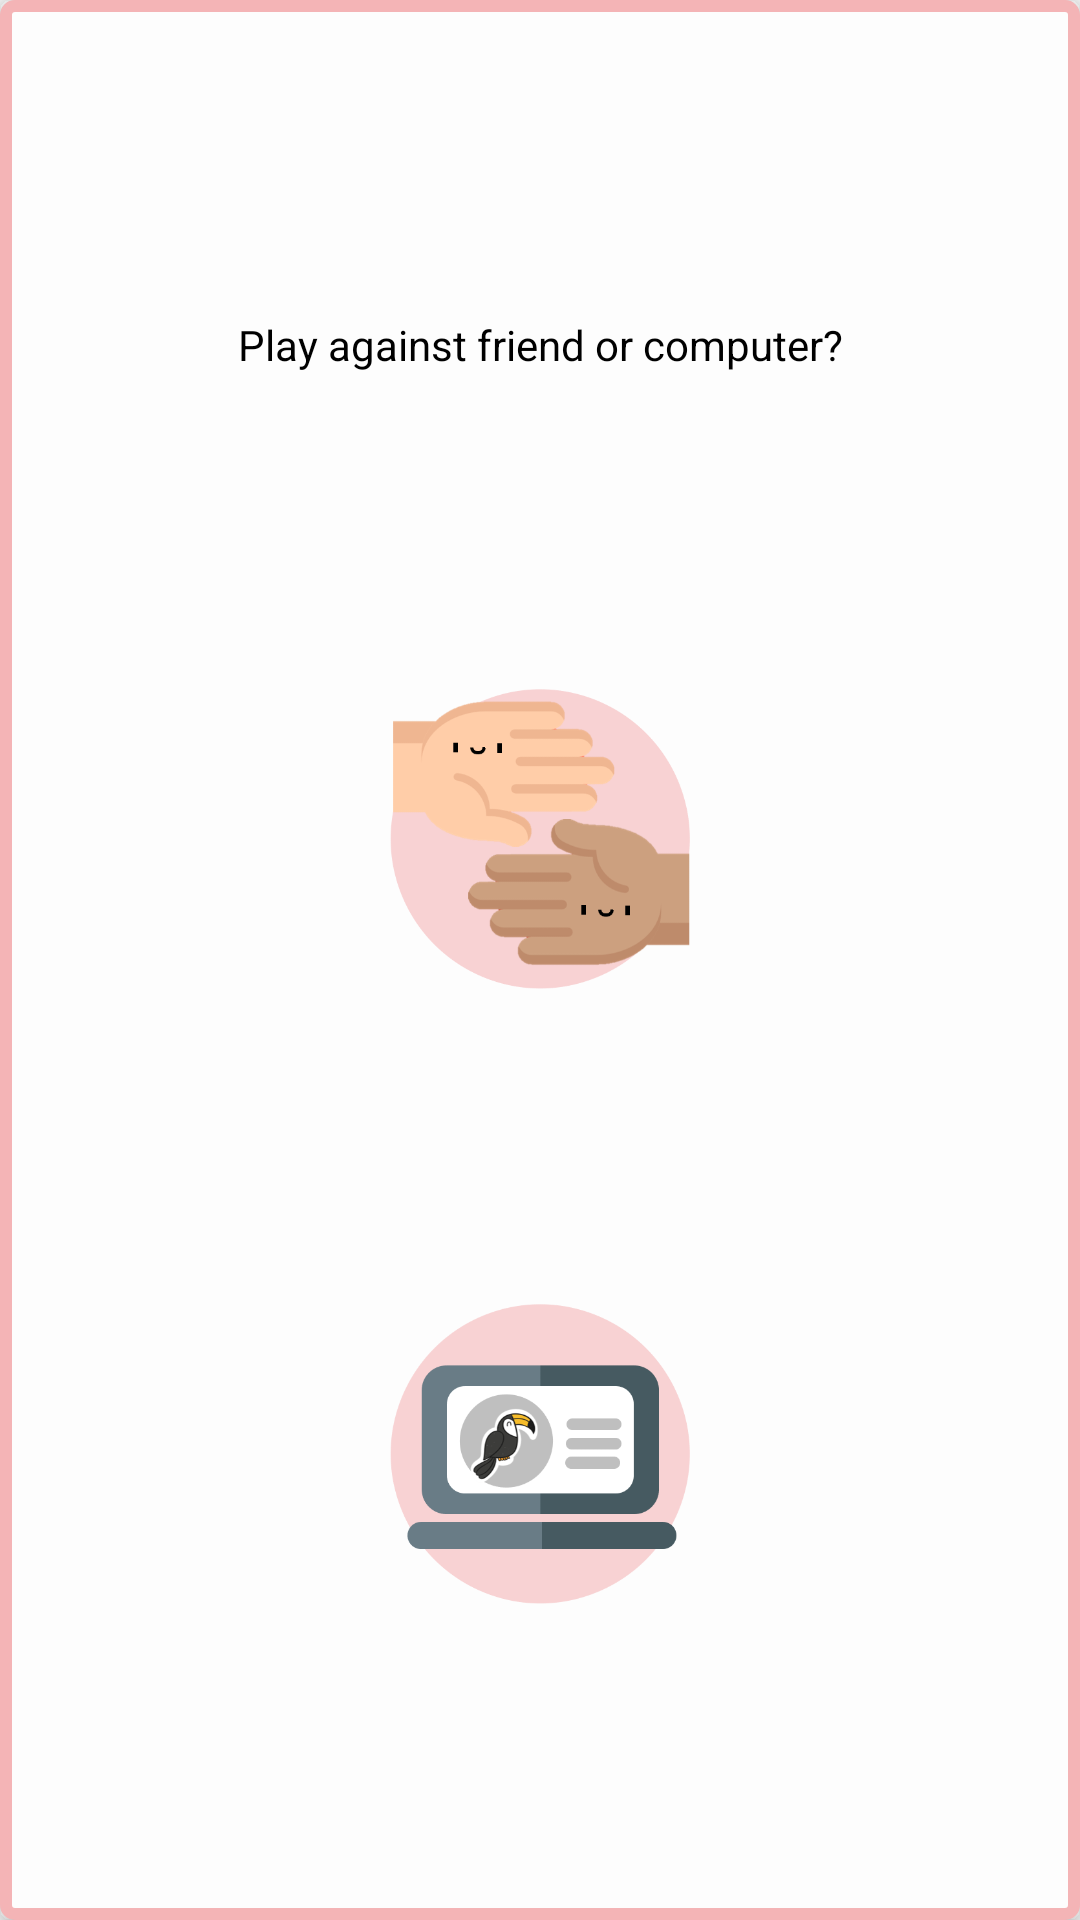

Where to tap for icons on this 1080w x 1920h app screen, as point (x, y):
computer: point (540, 1453)
friend: point (540, 838)
